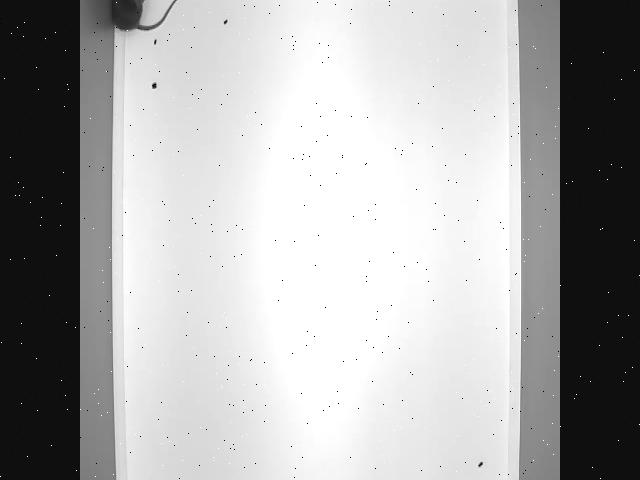Tikus: (111, 0, 189, 42)
